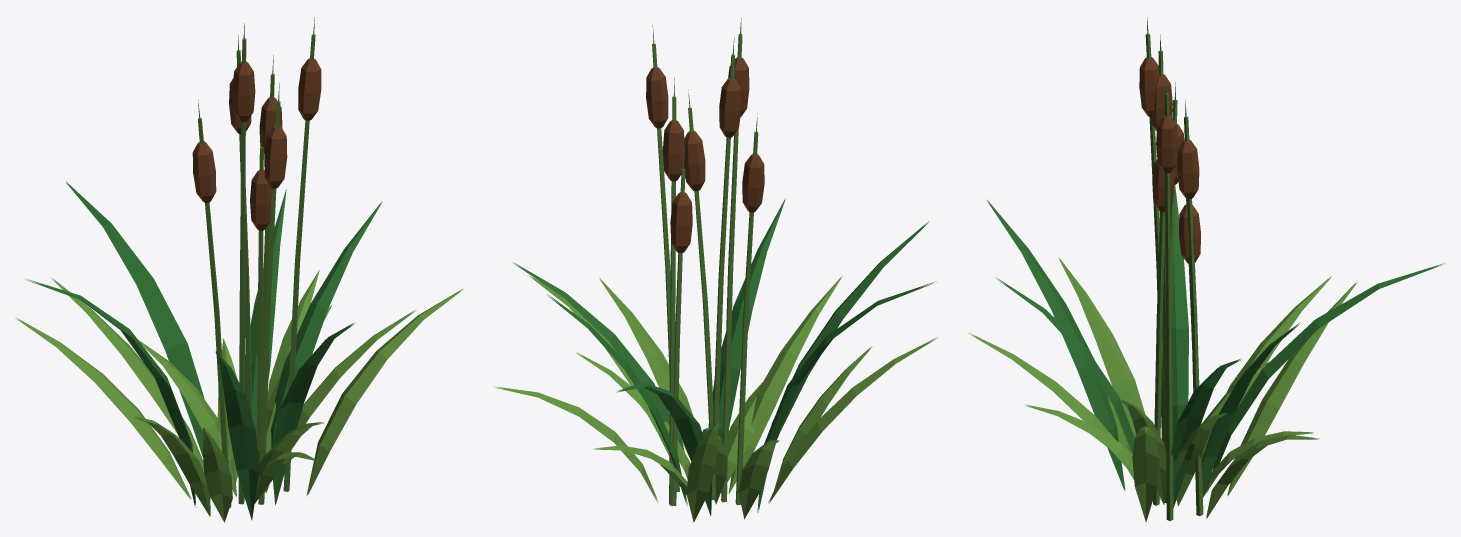
Rendered from Prop_Reeds.fbx.
3 renders of one model, left to right at view 1: azimuth 30°, elevation 25°; view 2: azimuth 150°, elevation 25°; view 3: azimuth 270°, elevation 25°, orthographic. The views are drawn at different scales.
Parts seen in each view (by area): view 1: Prop_Reeds; view 2: Prop_Reeds; view 3: Prop_Reeds.
Part boxes in pixels (x1,y1,x2,y2): Prop_Reeds: [15, 17, 463, 522]; Prop_Reeds: [495, 18, 937, 522]; Prop_Reeds: [968, 17, 1444, 522].
Size of the model in its own units: 1.3 by 1.42 by 1.29.
